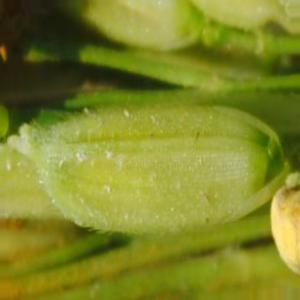Leaf_Scald: (274, 188, 297, 266)
